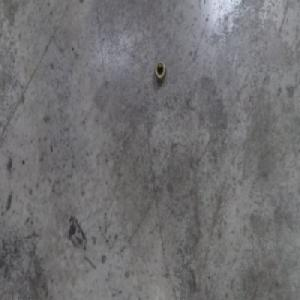Nut: (153, 59, 166, 84)
